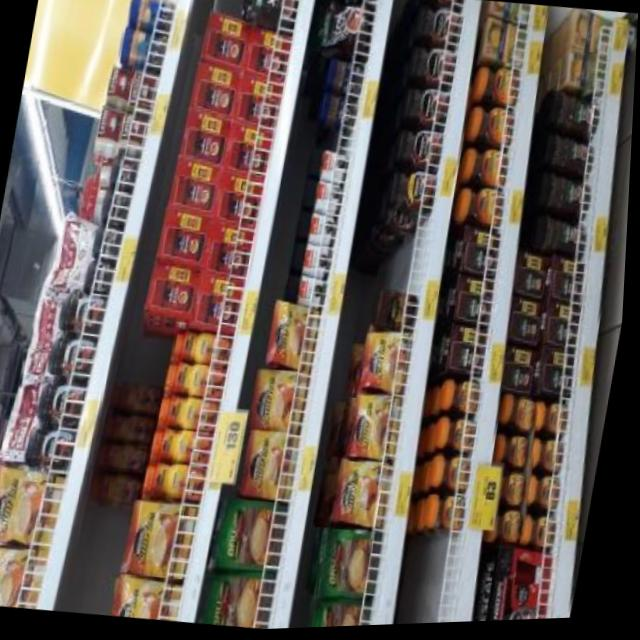Coffee: (126, 501, 205, 580), (0, 462, 69, 551), (335, 459, 396, 531), (244, 433, 302, 502), (349, 395, 405, 464), (253, 370, 311, 435), (268, 306, 323, 371), (0, 544, 52, 611), (361, 332, 414, 397), (117, 580, 188, 624), (144, 462, 212, 507), (25, 421, 80, 471), (386, 172, 438, 223), (48, 333, 101, 381), (37, 379, 91, 425), (161, 396, 224, 435), (167, 362, 230, 401), (153, 429, 219, 466), (172, 331, 235, 369), (400, 88, 451, 132), (60, 292, 109, 336), (395, 129, 445, 172), (413, 8, 463, 50), (469, 108, 516, 152), (407, 49, 456, 91), (456, 189, 505, 231), (463, 149, 512, 189), (429, 496, 471, 539), (476, 71, 522, 109), (490, 512, 528, 553), (434, 457, 476, 494), (441, 420, 481, 458), (445, 382, 485, 419), (100, 184, 135, 225), (524, 518, 561, 556), (494, 474, 531, 511), (537, 402, 574, 439), (503, 398, 541, 434), (531, 479, 565, 515), (535, 443, 570, 477), (92, 224, 125, 260), (500, 438, 534, 471), (84, 259, 117, 293), (108, 157, 139, 191)
